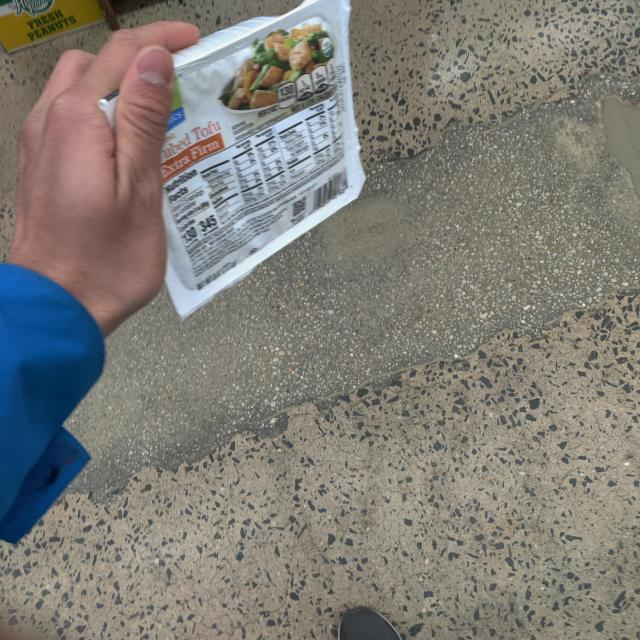Tofu: (80, 0, 404, 313)
